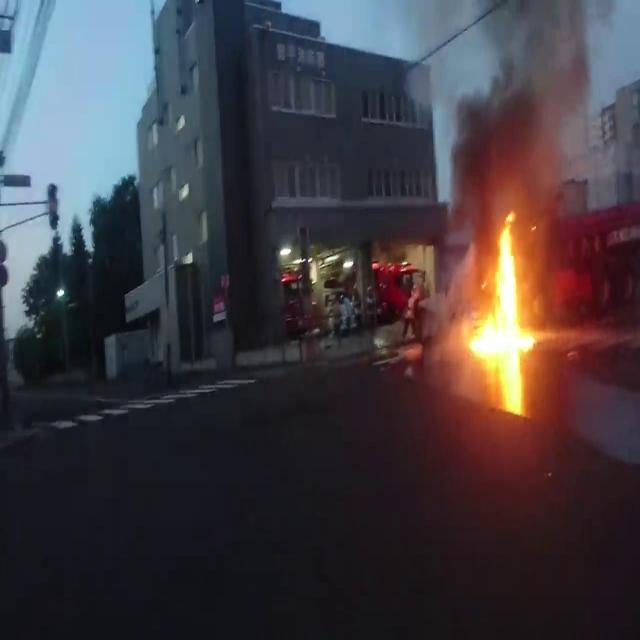Fire: (471, 212, 535, 356)
